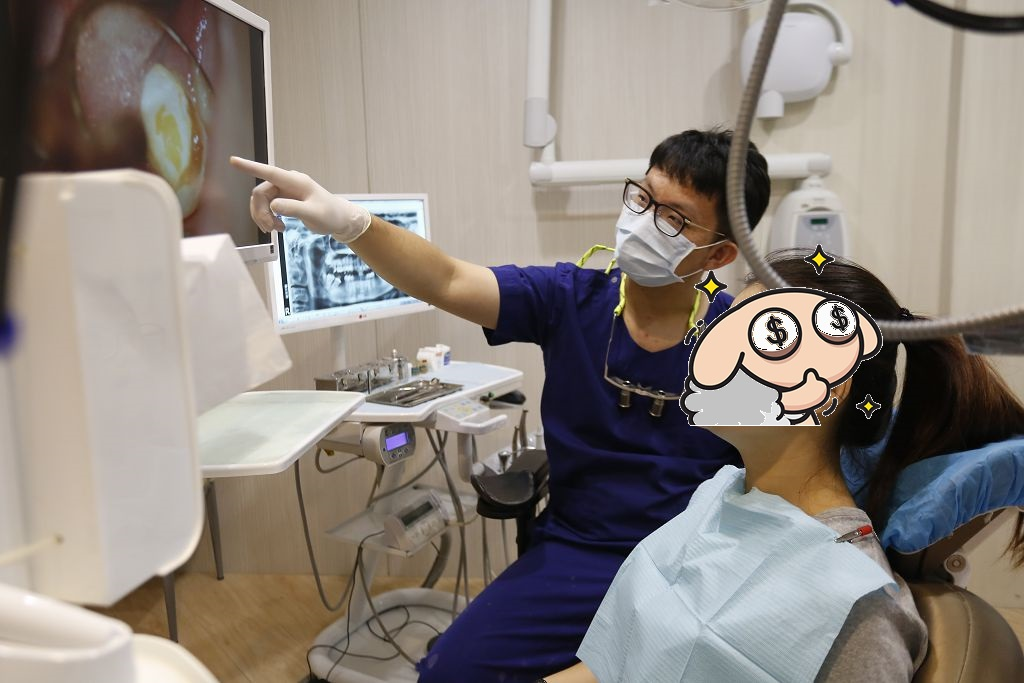mask: (612, 203, 693, 288)
